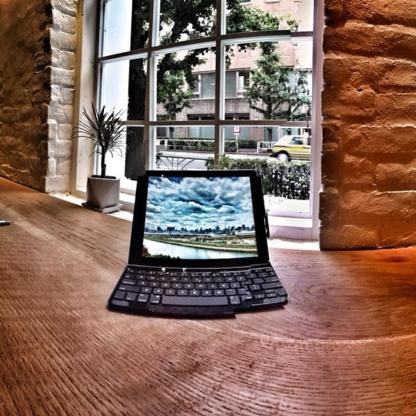board: (106, 168, 288, 321)
